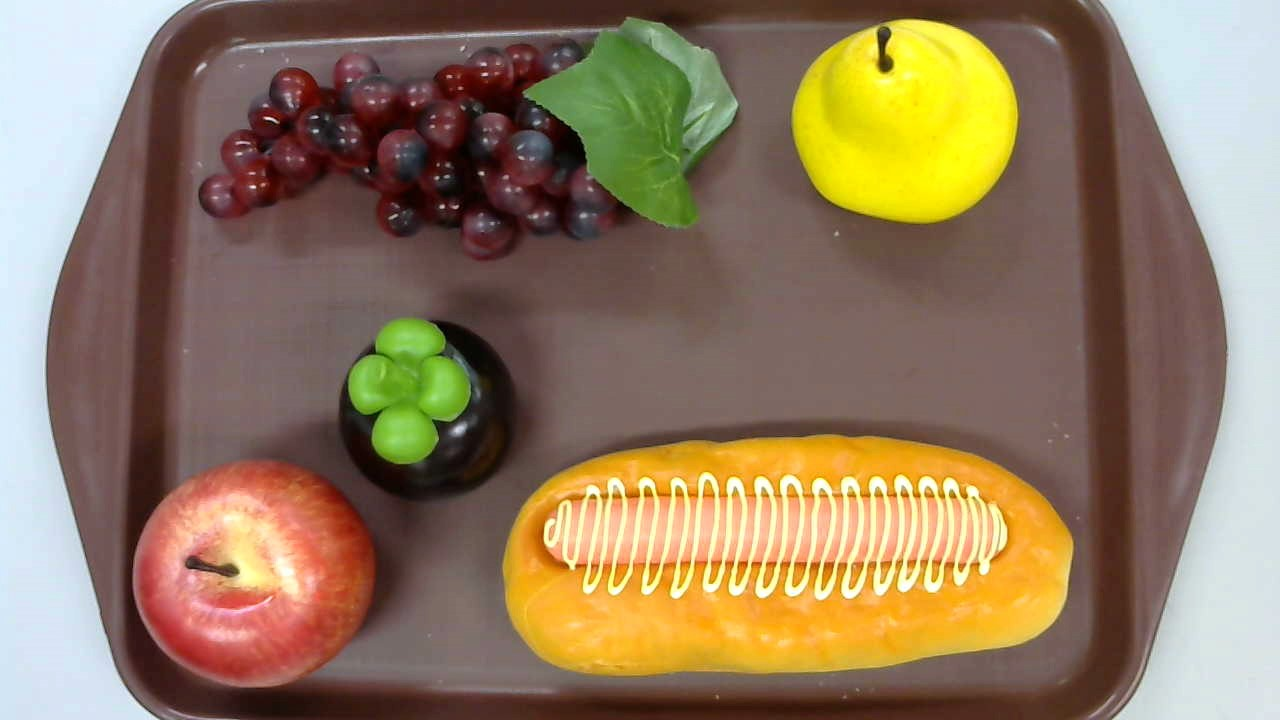grape: (198, 16, 740, 262)
hot dog: (501, 434, 1073, 675)
mangosteen: (337, 316, 516, 501)
red apple: (133, 457, 375, 689)
yellow pear: (789, 19, 1019, 223)
